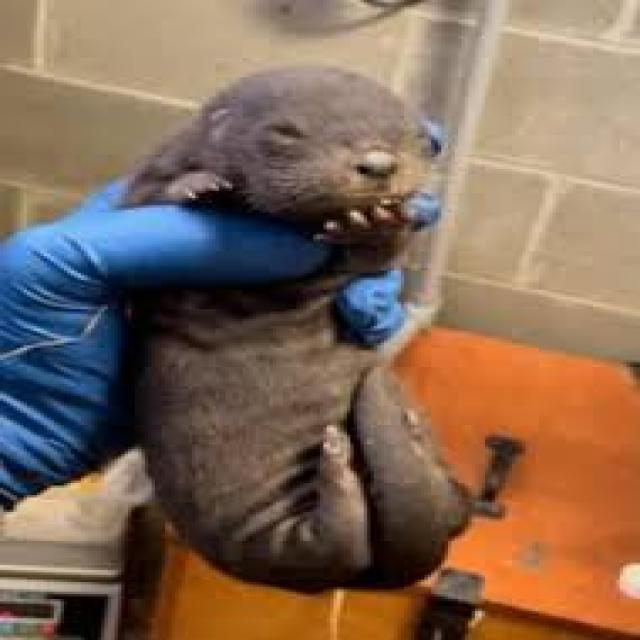Otter: (115, 60, 495, 582)
